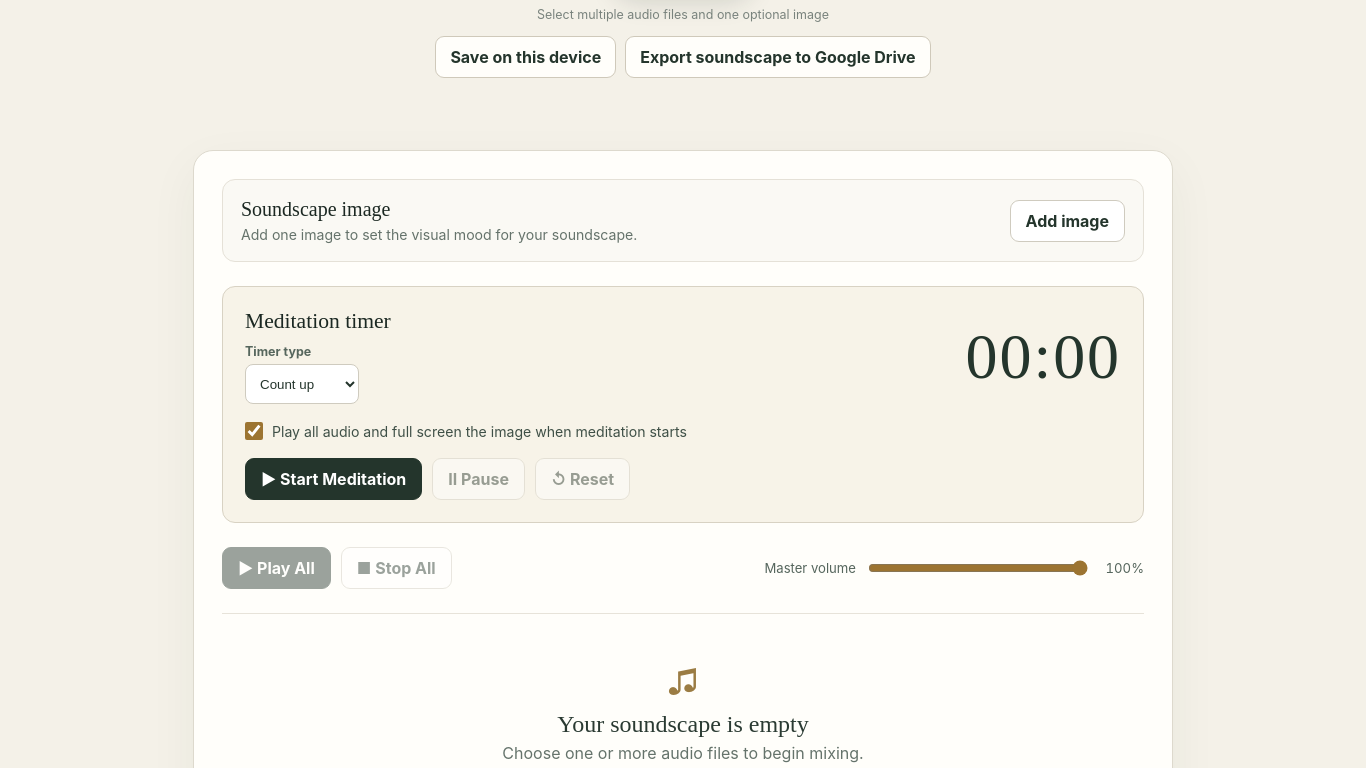
Test: App › reports gong failures without preventing countdown completion
(page scrolled)
Select "Count down" in the dropdown labelled "Timer type" at (302, 384), box x1=245 y1=364 x2=359 y2=404
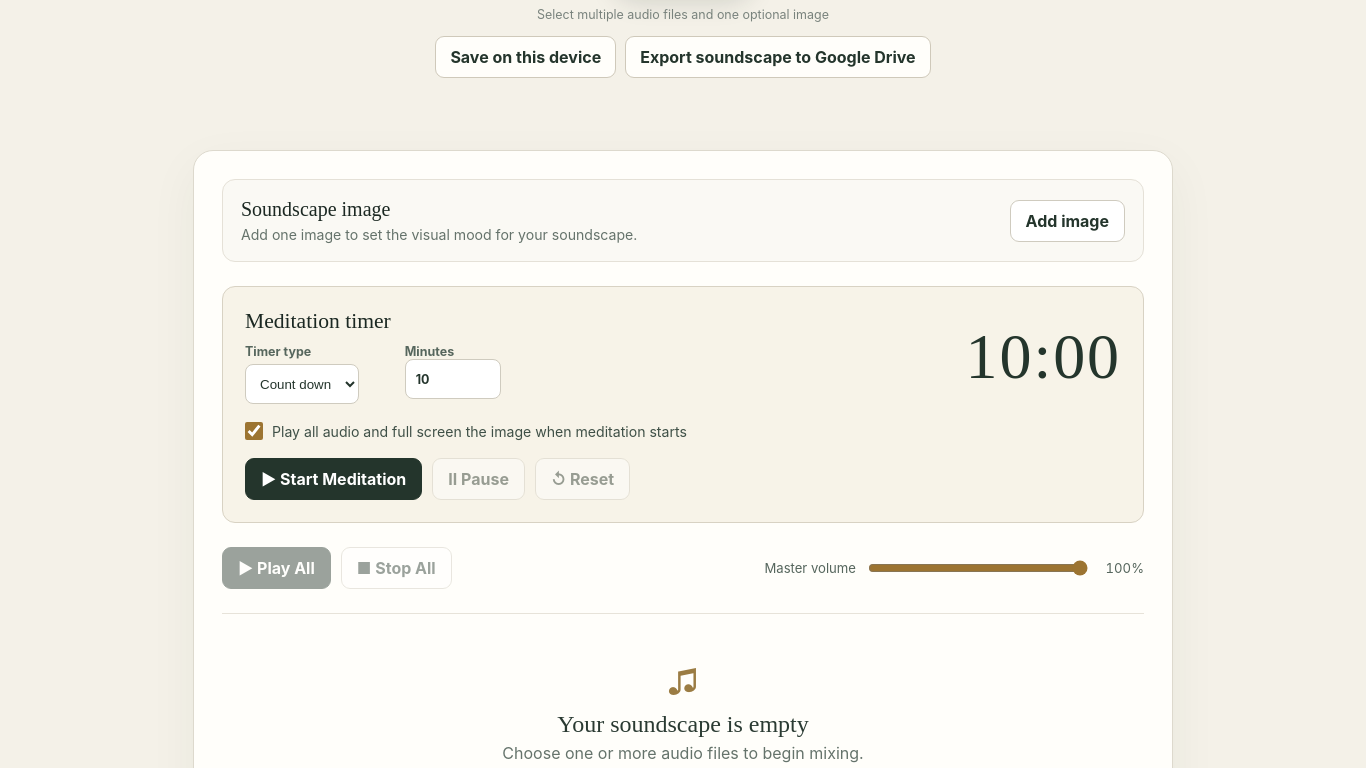
Replace the text in the number field labelled "Minutes" with "1" at (453, 379), box x1=405 y1=359 x2=501 y2=399
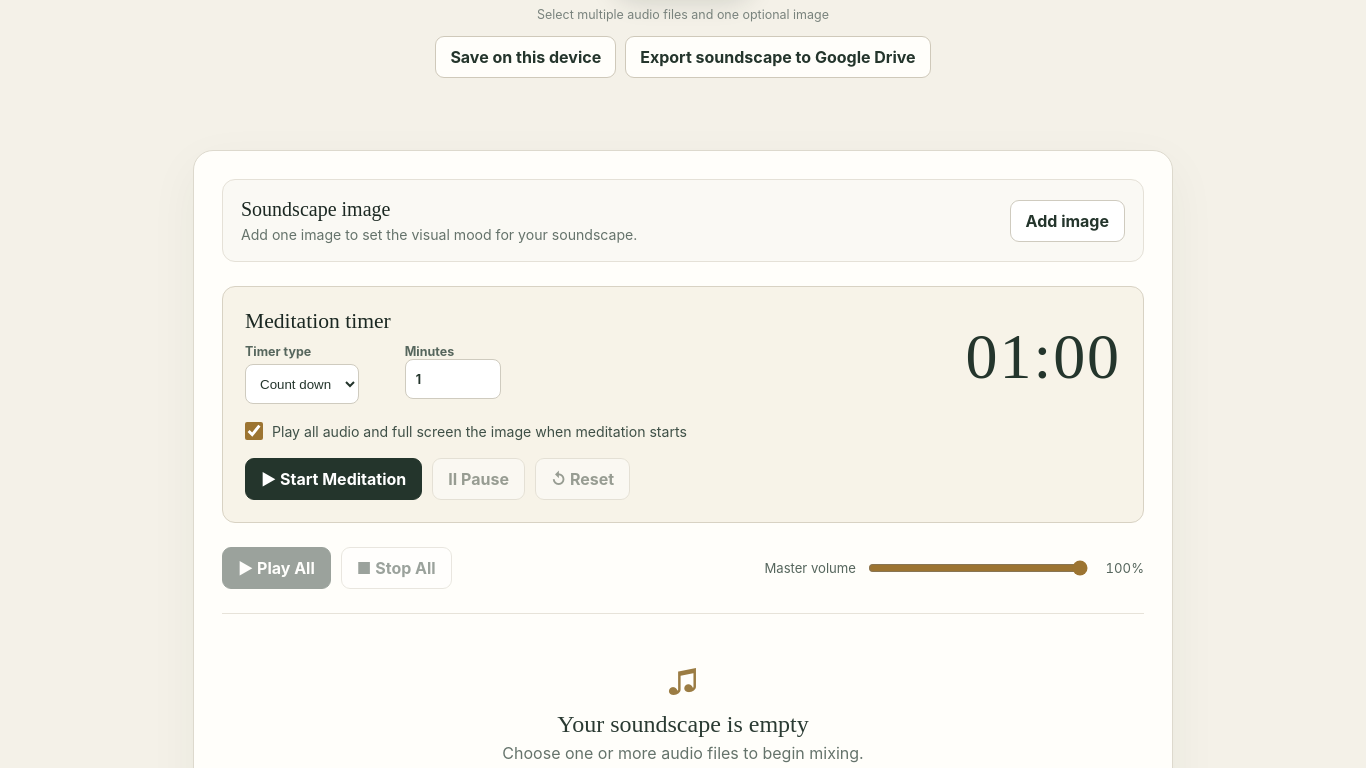
Click the button "▶ Start Meditation" at (334, 479), box x1=245 y1=458 x2=422 y2=500
Wait 60000 ms
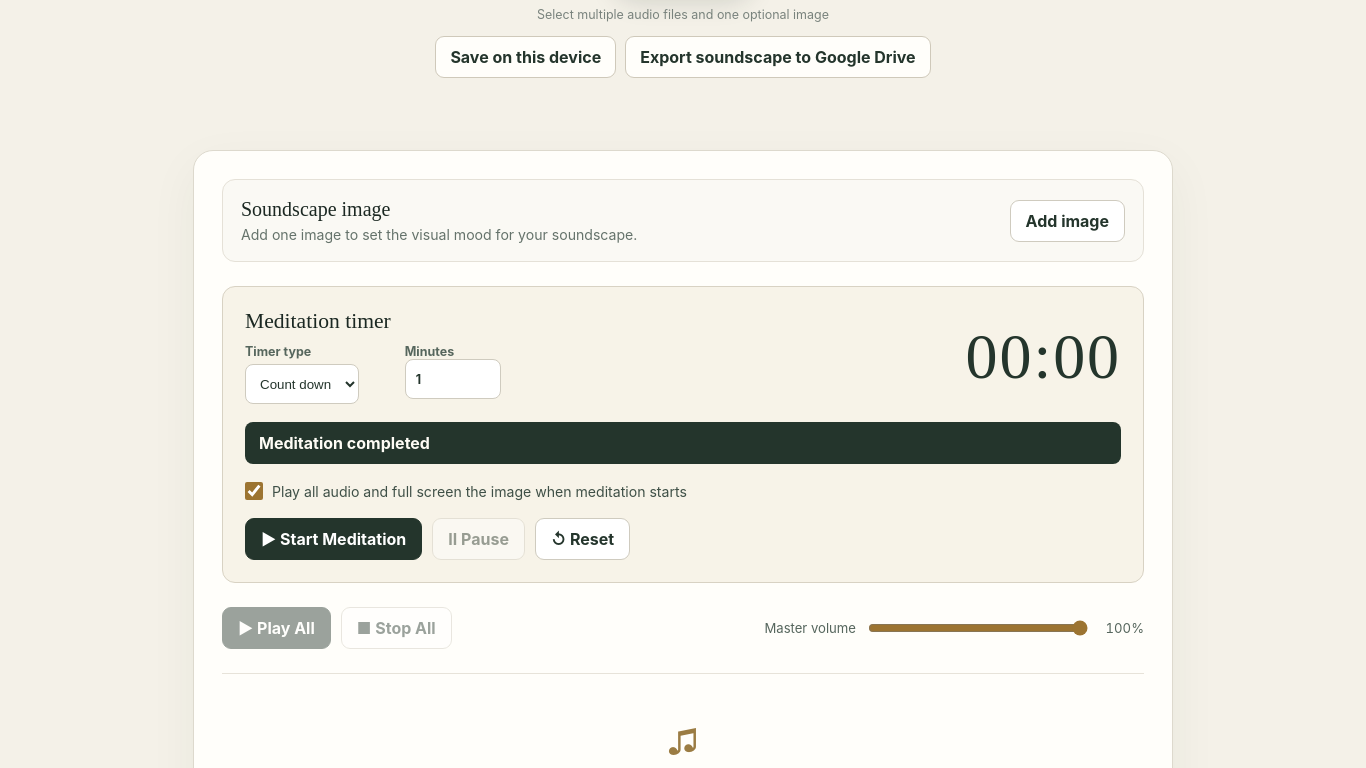
Expected: the text "Meditation completed" is shown, x1=245 y1=422 x2=1121 y2=464
